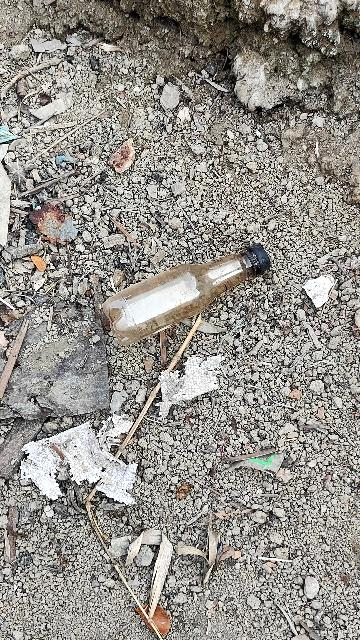bottle: (91, 207, 293, 348)
